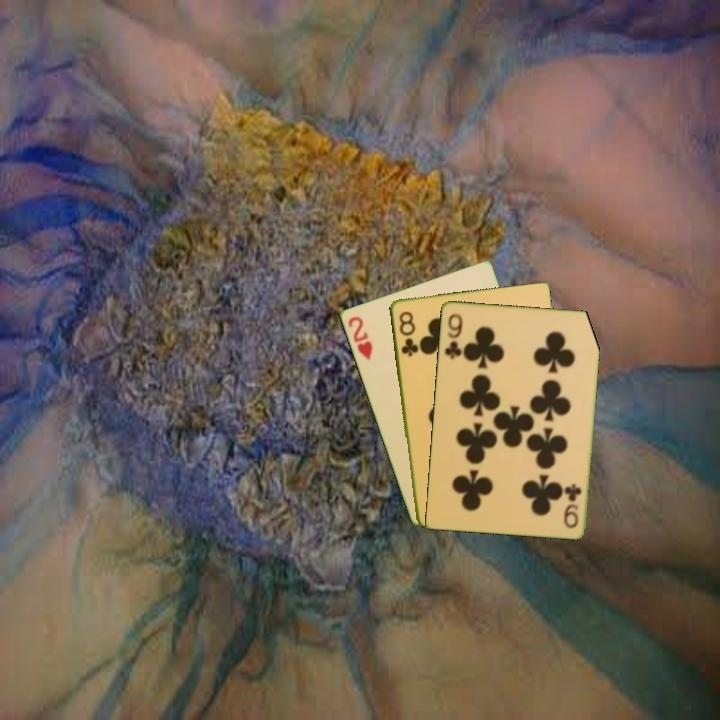2h: (344, 312, 375, 363)
8c: (395, 308, 420, 359)
9c: (441, 310, 465, 361), (560, 480, 584, 531)
